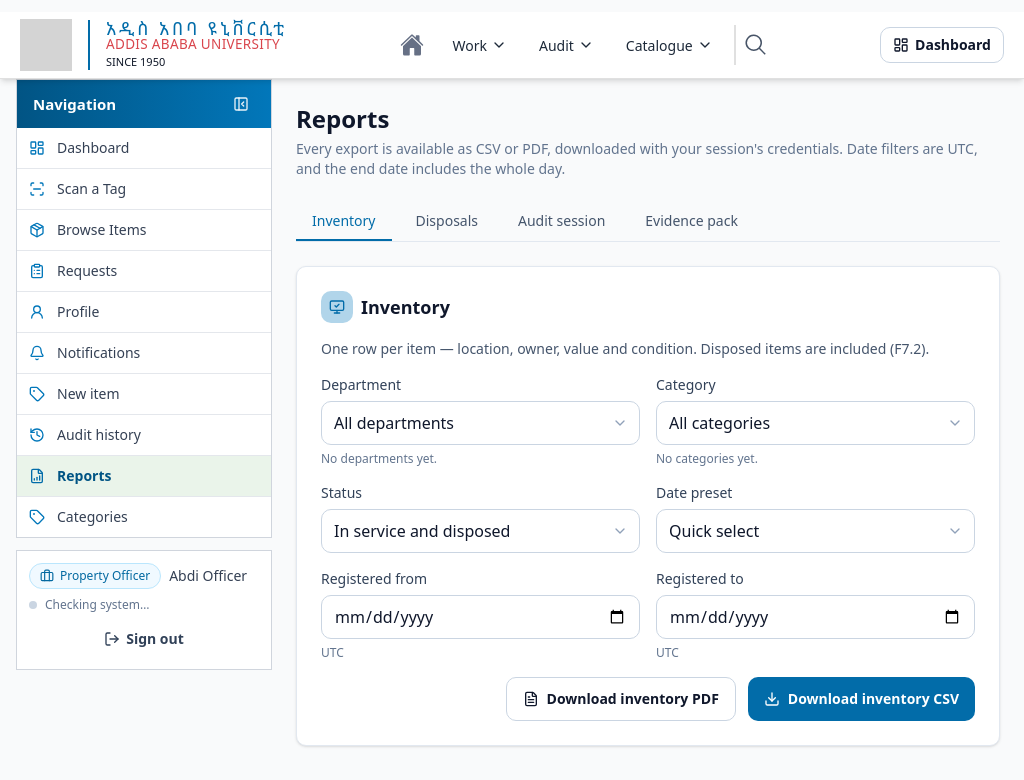
Test: report exports (F10) › catches a reversed date range before it reaches the API
Type "2026-09-30" into the date field labelled "Registered from" at (480, 617), box [321,595,640,639]
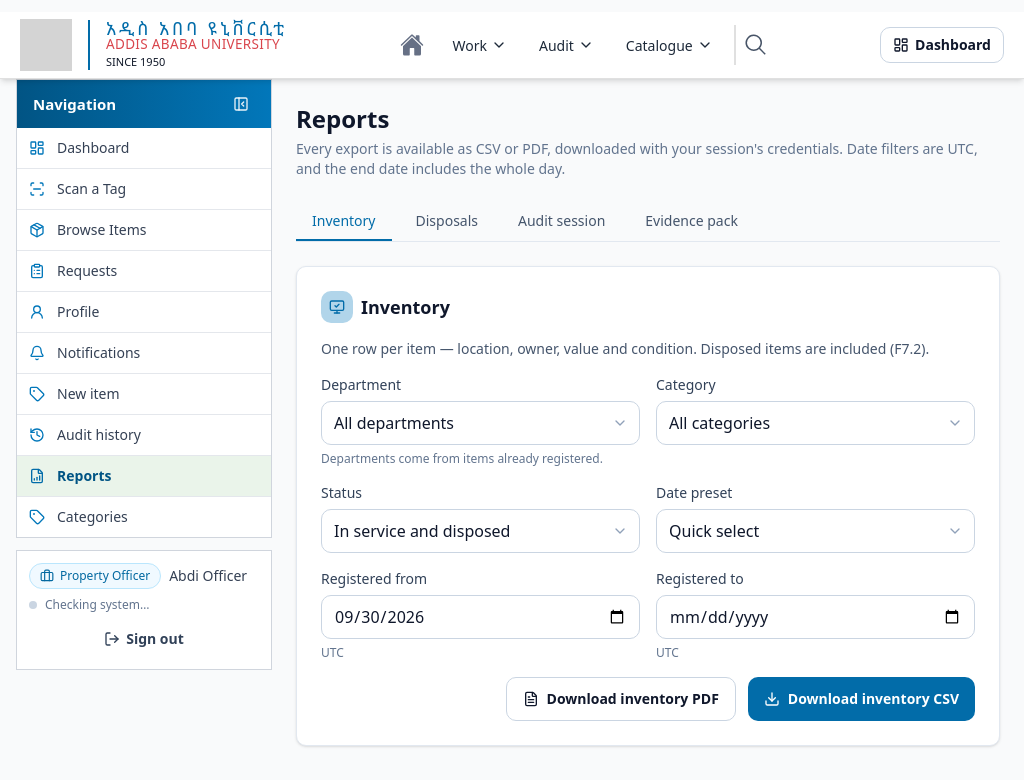
Type "2026-09-01" into the date field labelled "Registered to" at (816, 617), box [656,595,975,639]
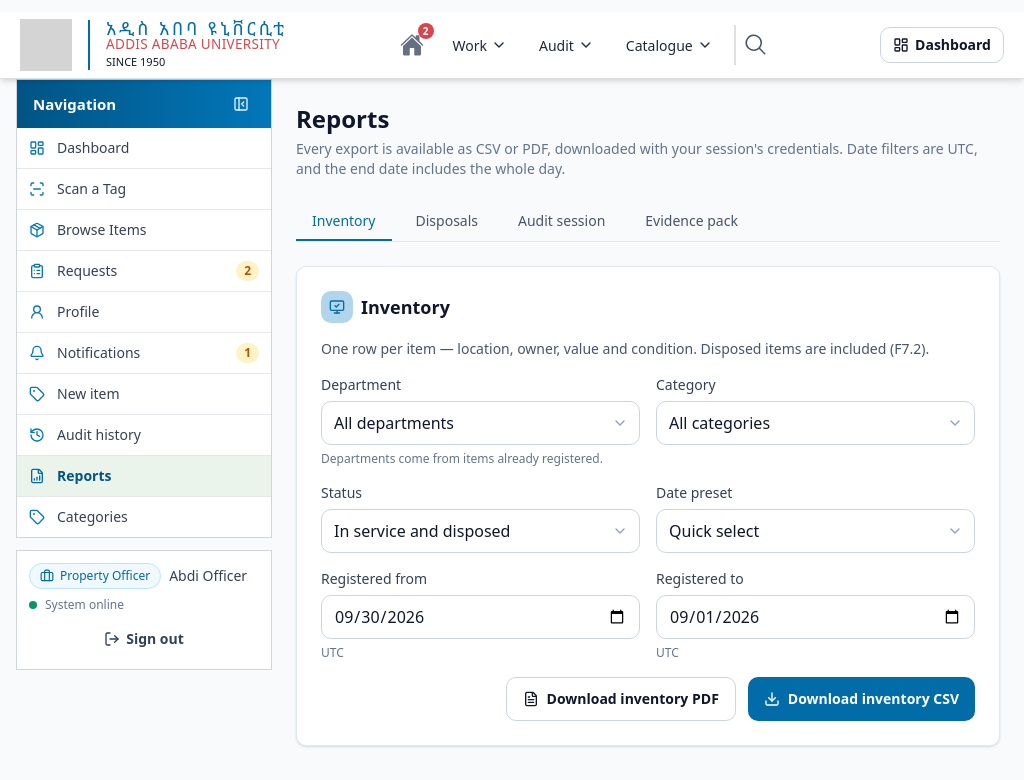
Click the button "Download inventory CSV" at (861, 699), box [748,677,975,721]
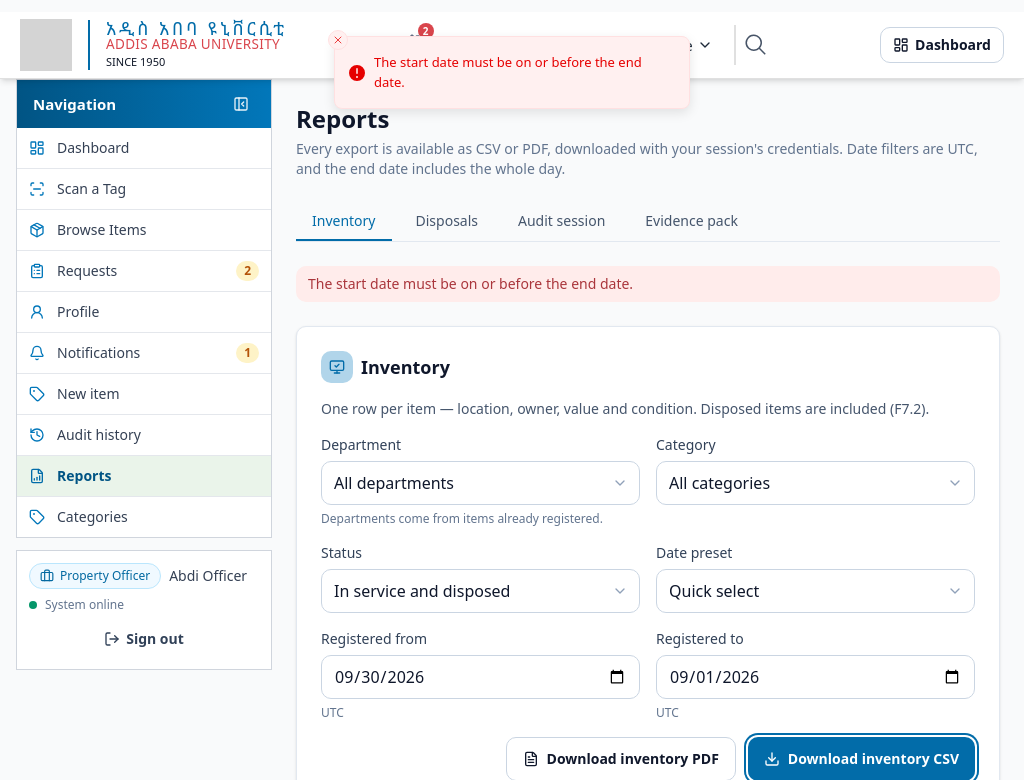
expect the text "The start date must be on or before the end date." is shown: met, box [296,266,1000,302]
